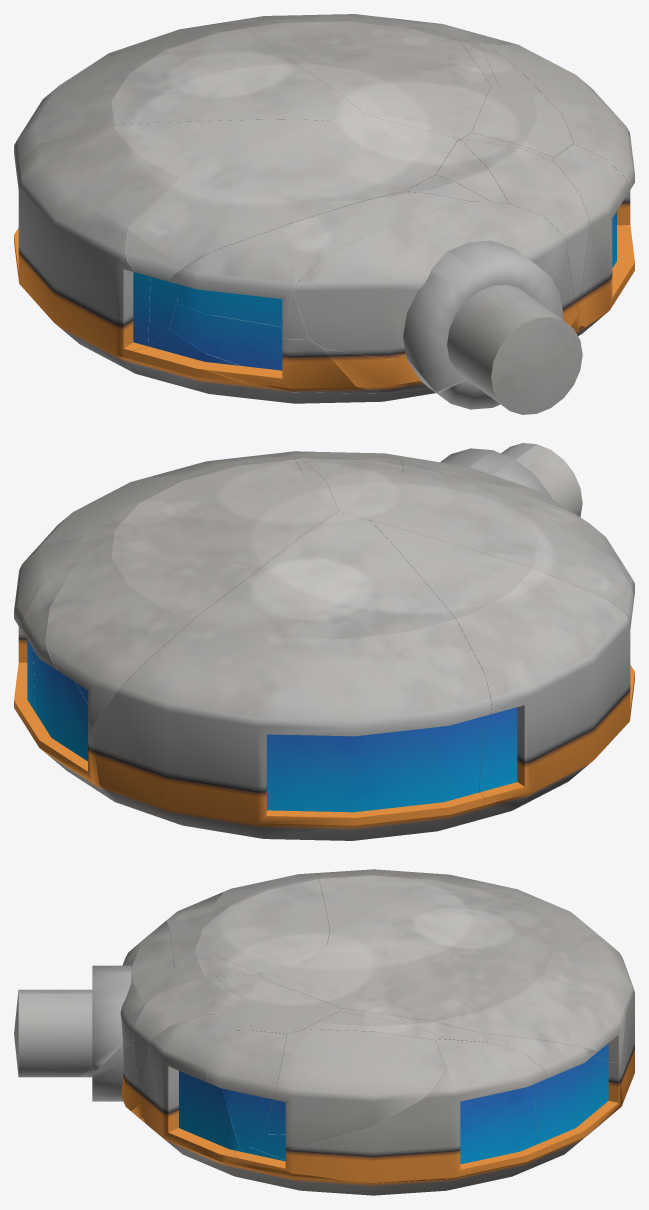
The model's file is Broke_Pod_1.fbx.
3 renders of one model, top to bottom at view 1: azimuth 30°, elevation 25°; view 2: azimuth 150°, elevation 25°; view 3: azimuth 270°, elevation 25°, orthographic. The views are drawn at different scales.
Parts seen in each view (by area): view 1: Pod_81, Pod_82, Pod_79, Pod_85, Pod_67, Pod_80, Pod_90, Pod_77, Pod_75, Pod_69, Pod_87, Pod_78 (+8 smaller); view 2: Pod_85, Pod_82, Pod_67, Pod_79, Pod_72, Pod_81, Pod_71, Pod_65, Pod_78, Pod_80, Pod_70, Pod_75 (+2 smaller); view 3: Pod_67, Pod_71, Pod_85, Pod_65, Pod_81, Pod_77, Pod_79, Pod_72, Pod_73, Pod_63, Pod_82, Pod_75 (+7 smaller).
Boxes of the visible parts, bbox=[...] form: Pod_81: bbox=[293, 201, 582, 414]; Pod_82: bbox=[16, 119, 331, 372]; Pod_79: bbox=[125, 115, 457, 288]; Pod_85: bbox=[14, 22, 364, 256]; Pod_67: bbox=[225, 14, 490, 141]; Pod_80: bbox=[169, 191, 470, 339]; Pod_90: bbox=[169, 303, 388, 393]; Pod_77: bbox=[553, 144, 634, 326]; Pod_75: bbox=[460, 139, 589, 314]; Pod_69: bbox=[126, 329, 435, 403]; Pod_87: bbox=[324, 255, 577, 409]; Pod_78: bbox=[471, 86, 573, 157]; Pod_85: bbox=[91, 511, 491, 840]; Pod_82: bbox=[369, 520, 630, 822]; Pod_67: bbox=[45, 477, 338, 728]; Pod_79: bbox=[325, 473, 633, 622]; Pod_72: bbox=[22, 563, 119, 803]; Pod_81: bbox=[380, 443, 582, 517]; Pod_71: bbox=[14, 536, 87, 724]; Pod_65: bbox=[32, 474, 190, 552]; Pod_78: bbox=[184, 457, 303, 495]; Pod_80: bbox=[418, 464, 634, 603]; Pod_70: bbox=[84, 478, 190, 542]; Pod_75: bbox=[290, 451, 388, 477]; Pod_67: bbox=[261, 940, 625, 1063]; Pod_71: bbox=[250, 1039, 552, 1183]; Pod_85: bbox=[327, 880, 634, 1102]; Pod_65: bbox=[264, 1029, 446, 1149]; Pod_81: bbox=[14, 920, 174, 1077]; Pod_77: bbox=[141, 1014, 240, 1162]; Pod_79: bbox=[203, 874, 329, 973]; Pod_72: bbox=[482, 1033, 622, 1157]; Pod_73: bbox=[206, 1030, 286, 1158]; Pod_63: bbox=[202, 1147, 556, 1195]; Pod_82: bbox=[301, 869, 476, 931]; Pod_75: bbox=[133, 975, 260, 1104].
Size of the model in its own units: 51.99 by 17.7 by 61.94.
